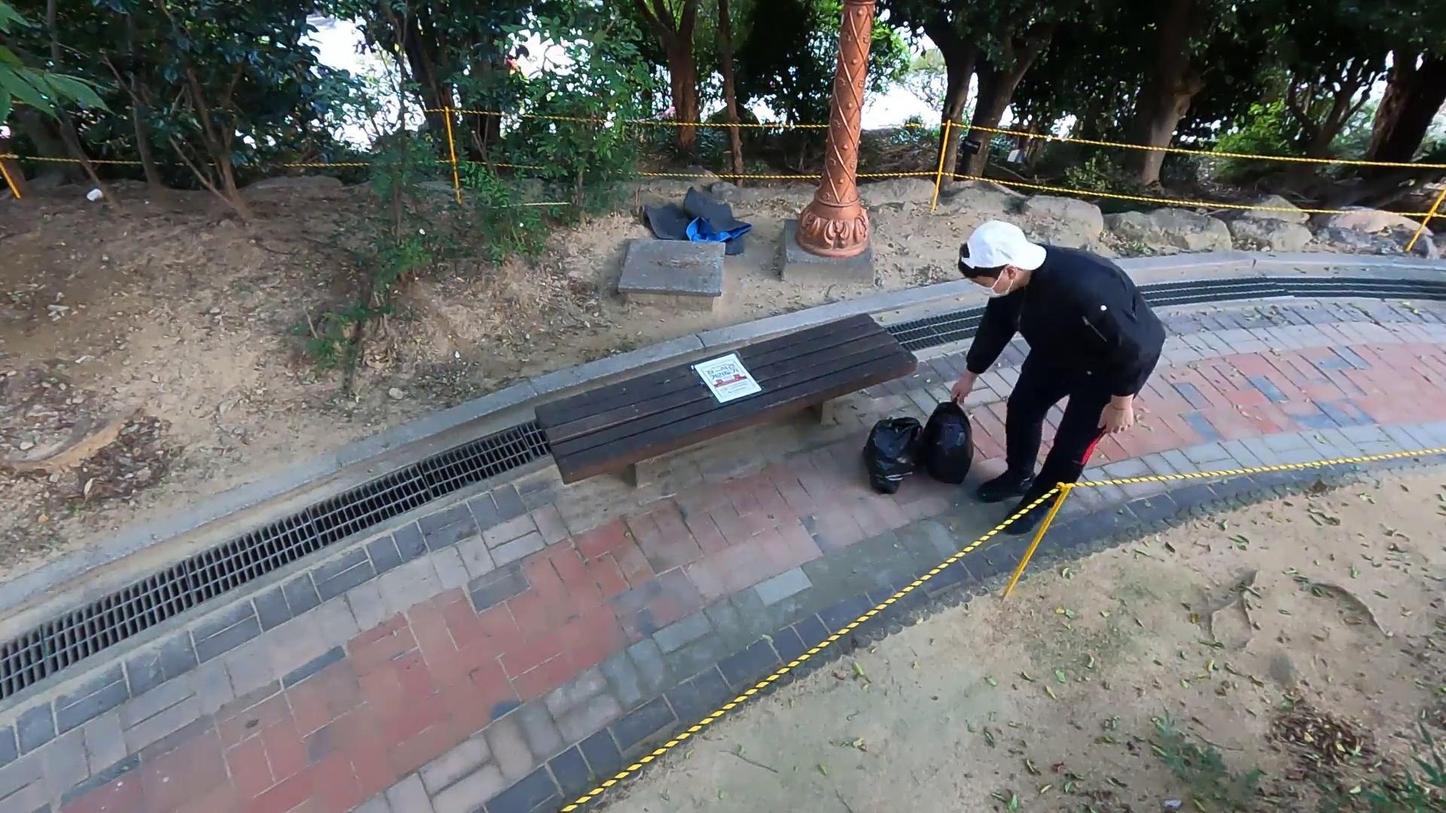person: (951, 214, 1167, 541)
trash: (637, 181, 753, 263), (907, 395, 981, 487), (861, 409, 922, 501)
